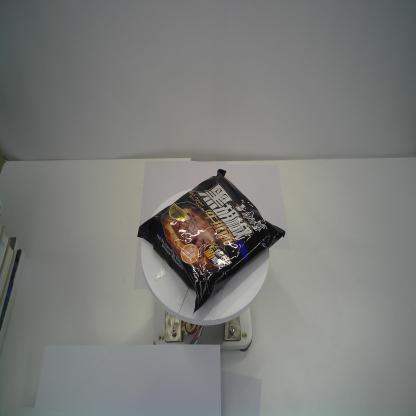Instant Noodles: (137, 169, 287, 314)
